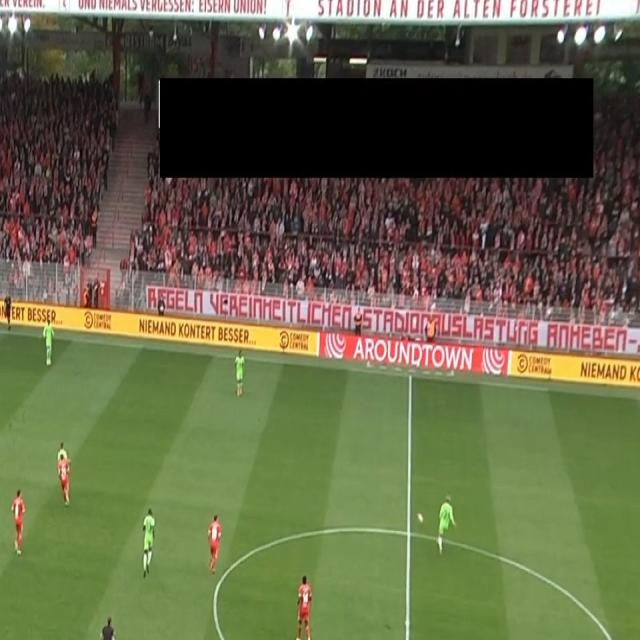ball: (416, 511, 424, 525)
